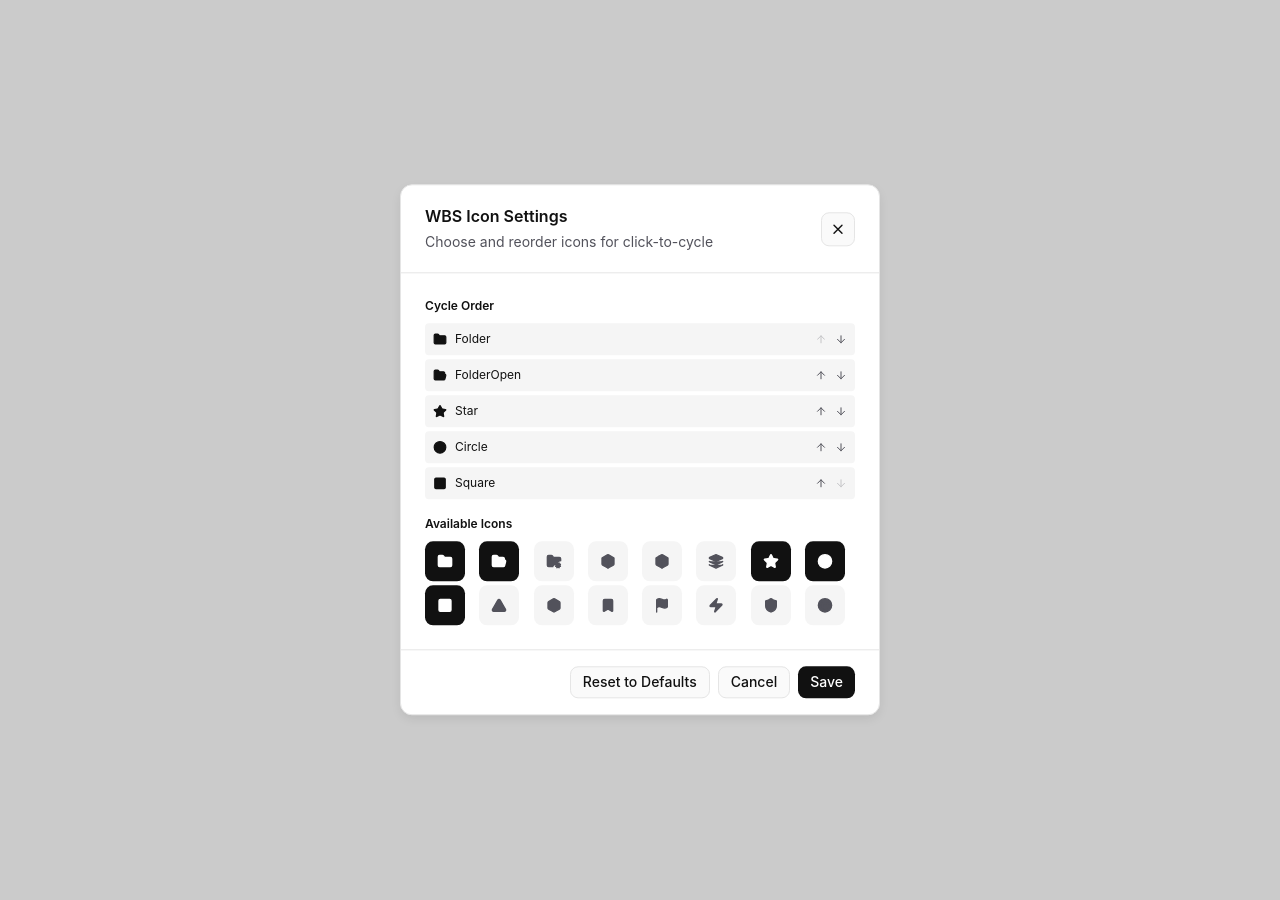
Scenario: WbsIconSettingsModal › toggles an icon off when clicked
The width and height of the screenshot is (1280, 900).
// "Folder" is in default order, click to remove
Click the button with test id "icon-toggle-Folder" at (445, 562), box x1=425 y1=542 x2=465 y2=582
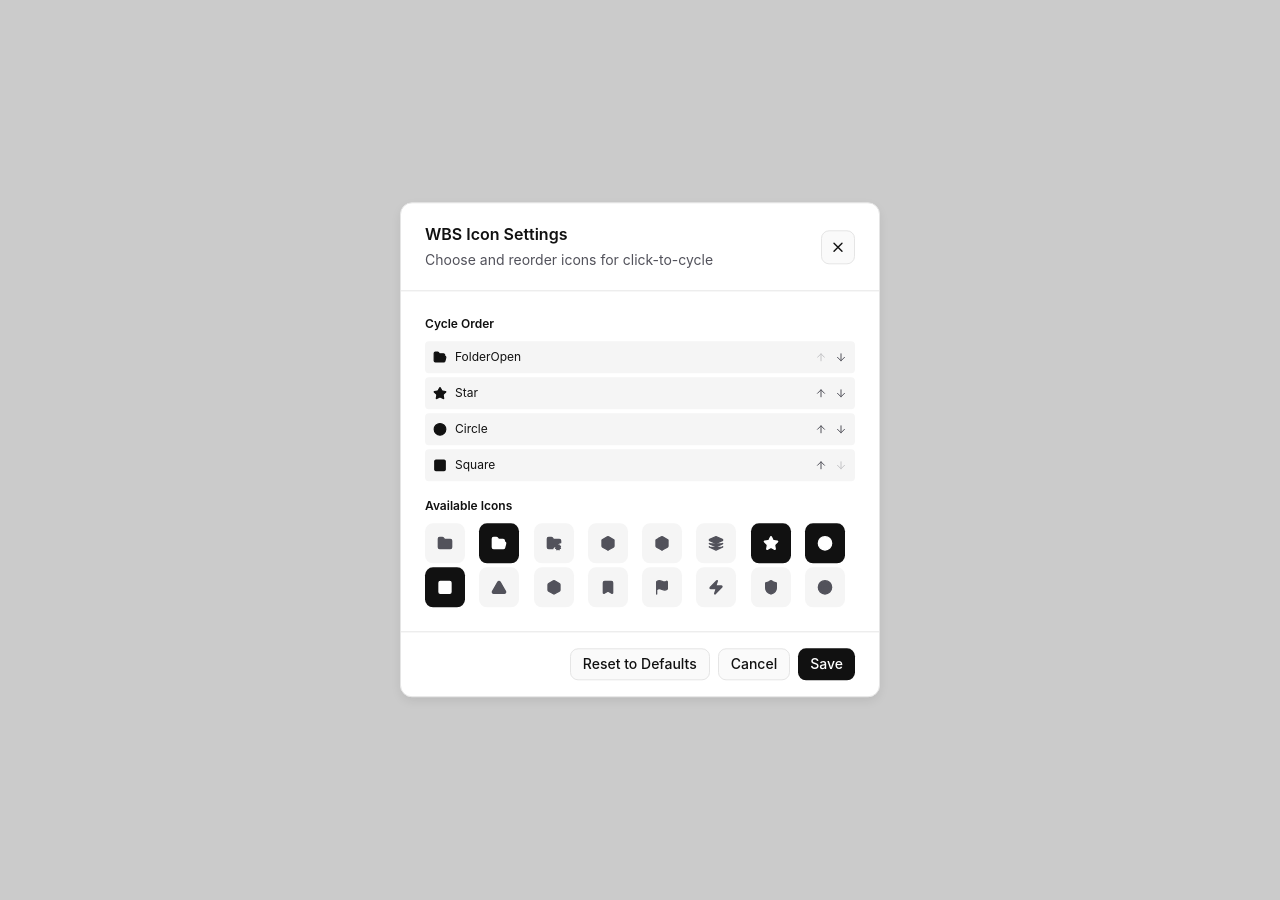
Check: the element with test id "cycle-item-Folder" is gone
